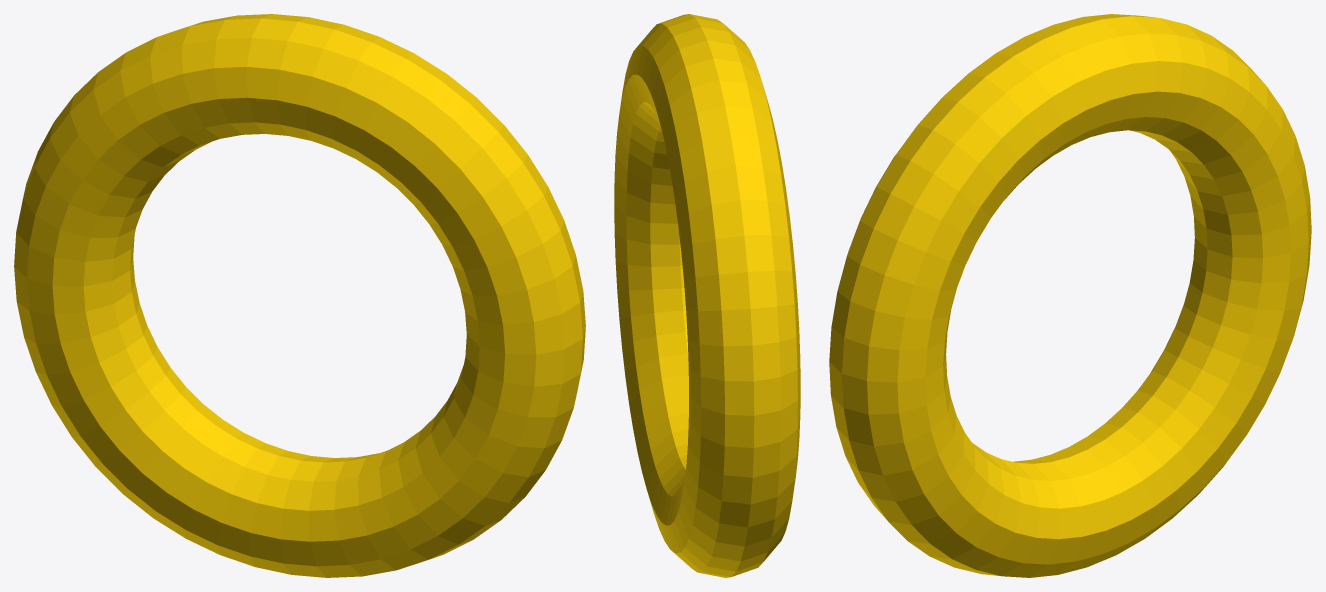
The model's file is Altin.fbx.
3 renders of one model, left to right at view 1: azimuth 30°, elevation 25°; view 2: azimuth 150°, elevation 25°; view 3: azimuth 270°, elevation 25°, orthographic. The views are drawn at different scales.
Parts seen in each view (by area): view 1: Torus; view 2: Torus; view 3: Torus.
Part boxes in pixels (<box>): Torus: <box>14,14,585,577</box>; Torus: <box>614,14,800,577</box>; Torus: <box>829,14,1311,577</box>.
Size of the model in its own units: 177 by 250 by 204.
